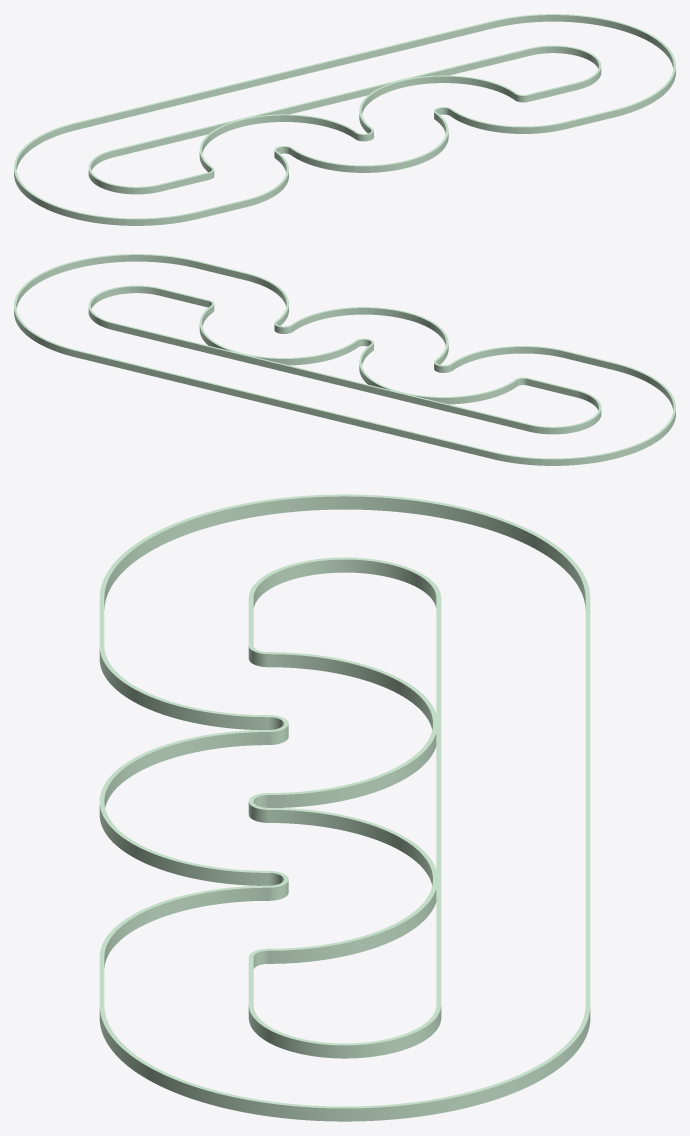
The model's file is track_small_2_walls_text.dae.
The picture shows the model from 3 angles, top to bottom: view 1: azimuth 30°, elevation 25°; view 2: azimuth 150°, elevation 25°; view 3: azimuth 270°, elevation 25°; orthographic projection. The views are drawn at different scales.
Visible parts, largest first — view 1: Untitled, Untitled_001; view 2: Untitled, Untitled_001; view 3: Untitled, Untitled_001.
Boxes of the visible parts, left/top/right/bottom form: Untitled: left=14, top=14, right=675, bottom=225; Untitled_001: left=88, top=45, right=601, bottom=194; Untitled: left=14, top=254, right=675, bottom=465; Untitled_001: left=88, top=285, right=601, bottom=434; Untitled: left=99, top=494, right=590, bottom=1121; Untitled_001: left=248, top=557, right=441, bottom=1058.
Bounding box in the file's own units: 15.1 × 5.1 × 0.15.
